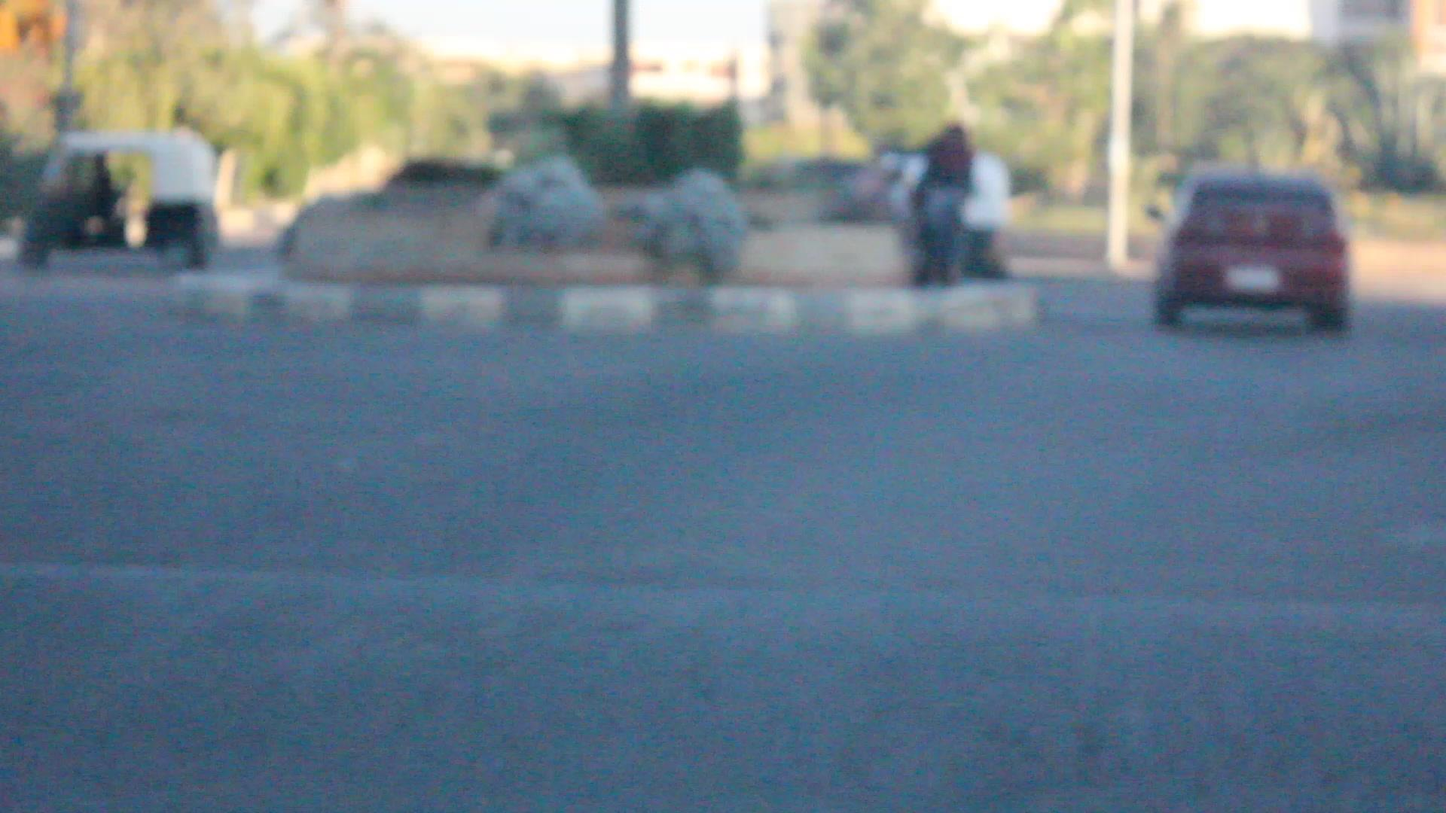Bump: (2, 550, 1446, 813)
